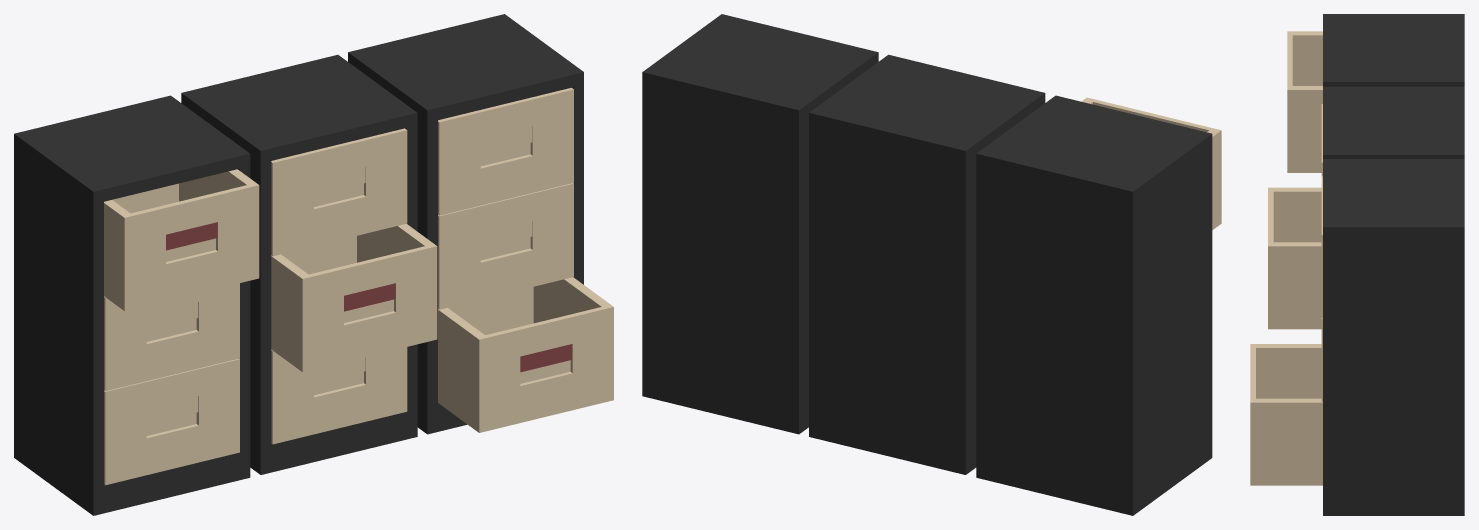
Rendered from drawers.fbx.
3 views of the same model, side by side, from view 1: azimuth 30°, elevation 25°; view 2: azimuth 150°, elevation 25°; view 3: azimuth 270°, elevation 25° (orthographic). The views are drawn at different scales.
Visible parts, largest first — view 1: Case01 (×3), Box01 (×3), Box03 (×3), Box02 (×3), Handle01 (×9); view 2: Case01 (×3), Box03; view 3: Case01 (×3), Box01, Box02, Box03 (×2).
Boxes of the visible parts, box(x1,y1,x2,y2) form: Case01 (×3): box(14, 14, 583, 515); Box01 (×3): box(104, 277, 613, 485); Box03 (×3): box(104, 87, 573, 311); Box02 (×3): box(104, 183, 573, 390); Handle01 (×9): box(146, 126, 572, 424); Case01 (×3): box(642, 14, 1212, 515); Box03: box(1081, 97, 1221, 229); Case01 (×3): box(1323, 14, 1464, 515); Box01: box(1250, 344, 1322, 485); Box02: box(1268, 187, 1321, 329); Box03 (×2): box(1287, 31, 1322, 317).
Bounding box in the file's own units: 32.2 × 20.33 × 13.67.
